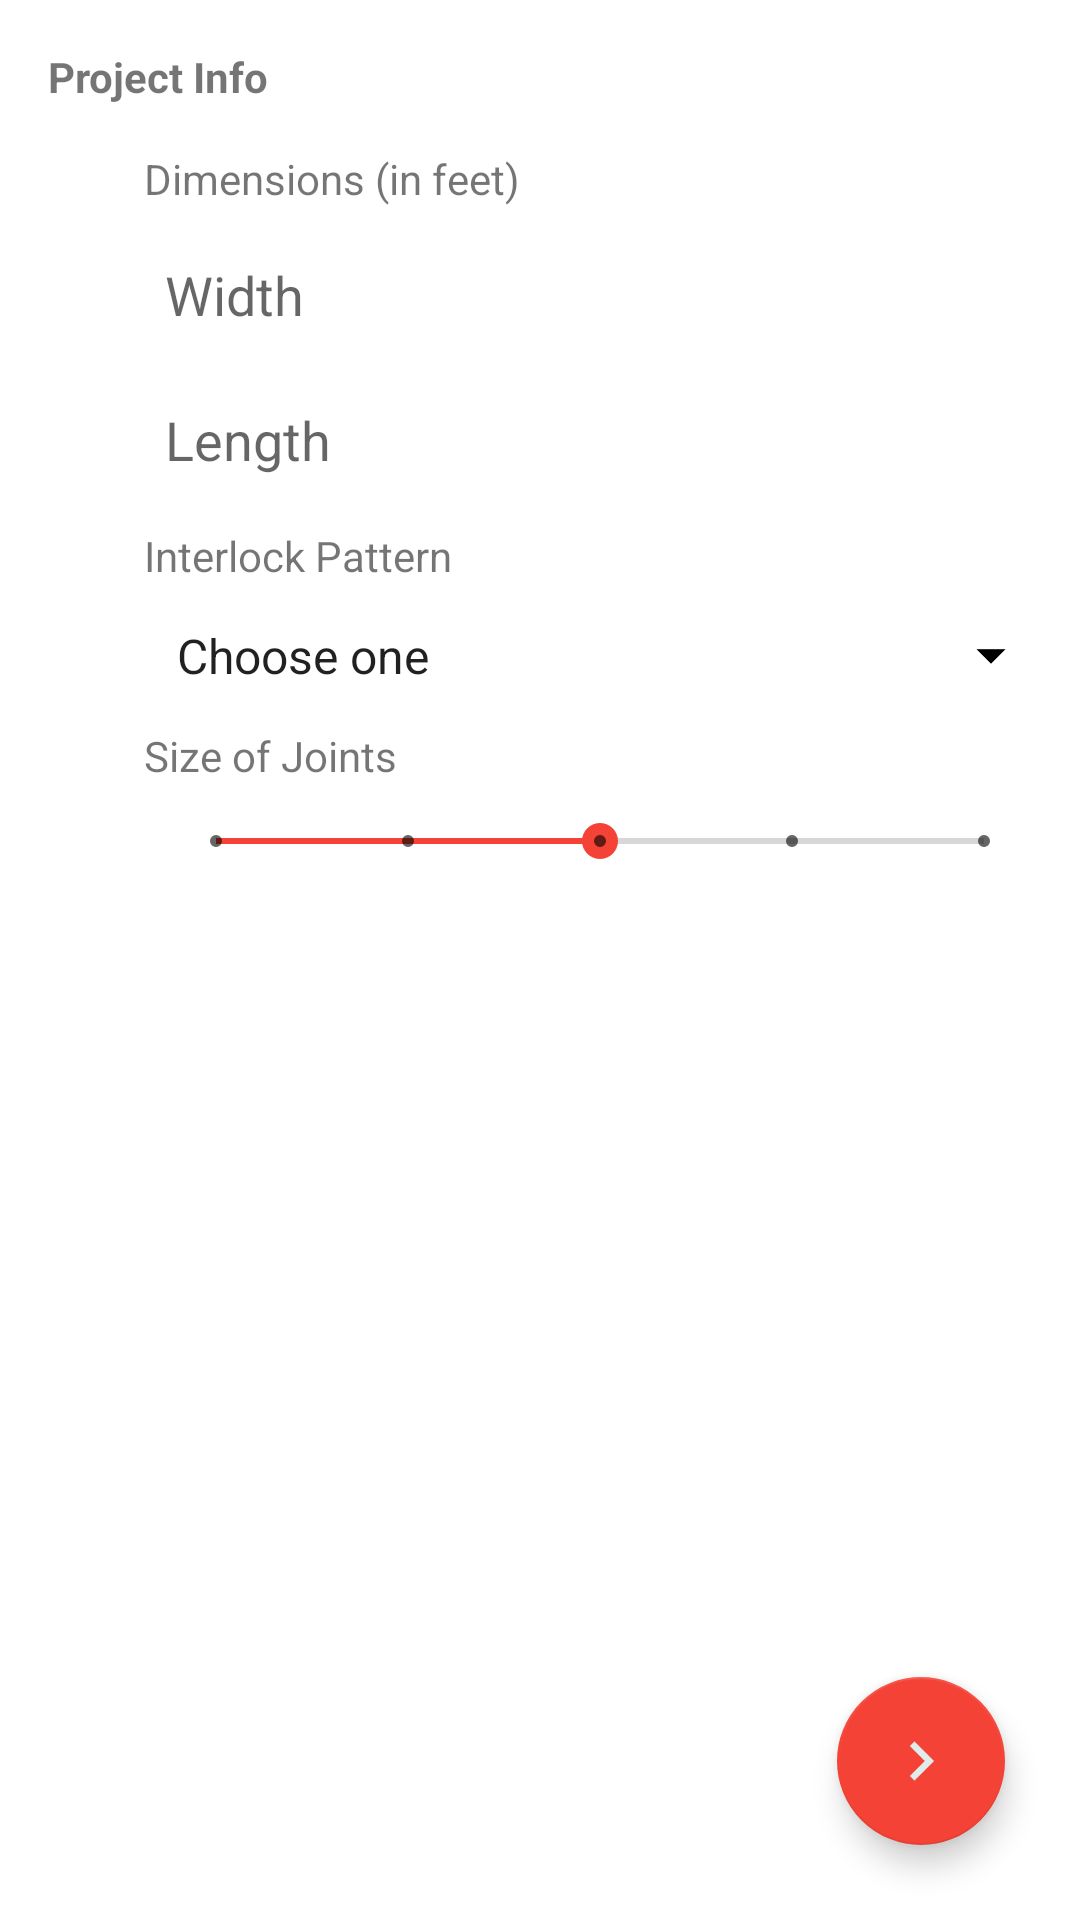

Icons on this 1080w x 1920h Android screen, each with its box as (x1, y1, x2, y2):
right arrow: (837, 1677, 1005, 1845)
